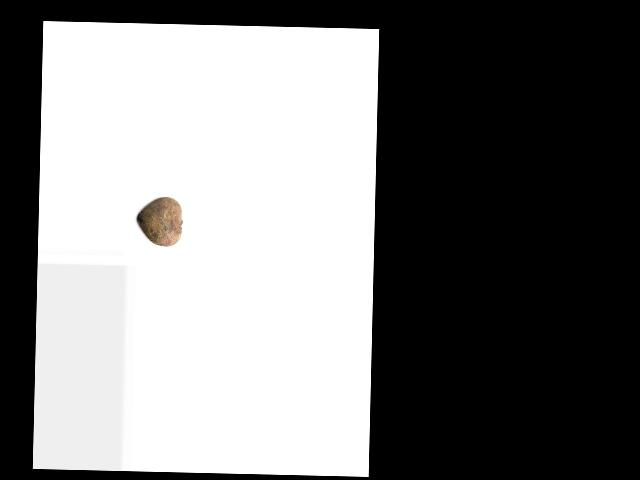beet: (136, 196, 182, 247)
